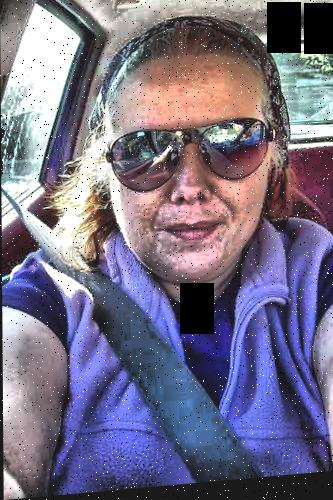seatbelt: (7, 166, 240, 460)
